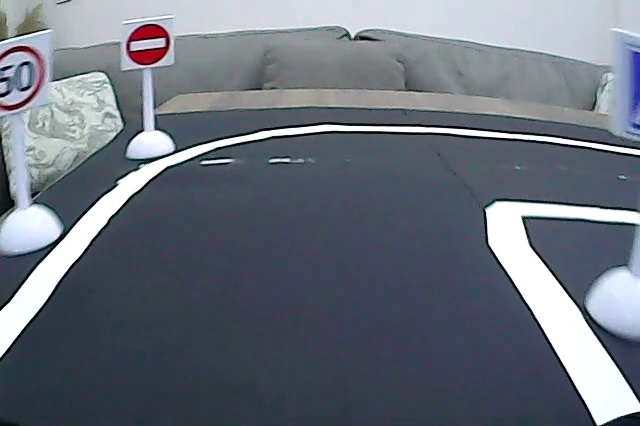do not enter: (125, 22, 170, 67)
speed limit 50: (1, 43, 52, 115)
